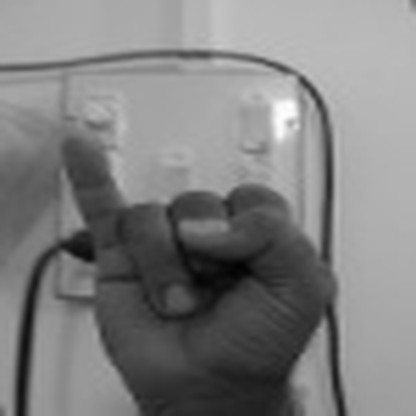i: (49, 129, 331, 400)
